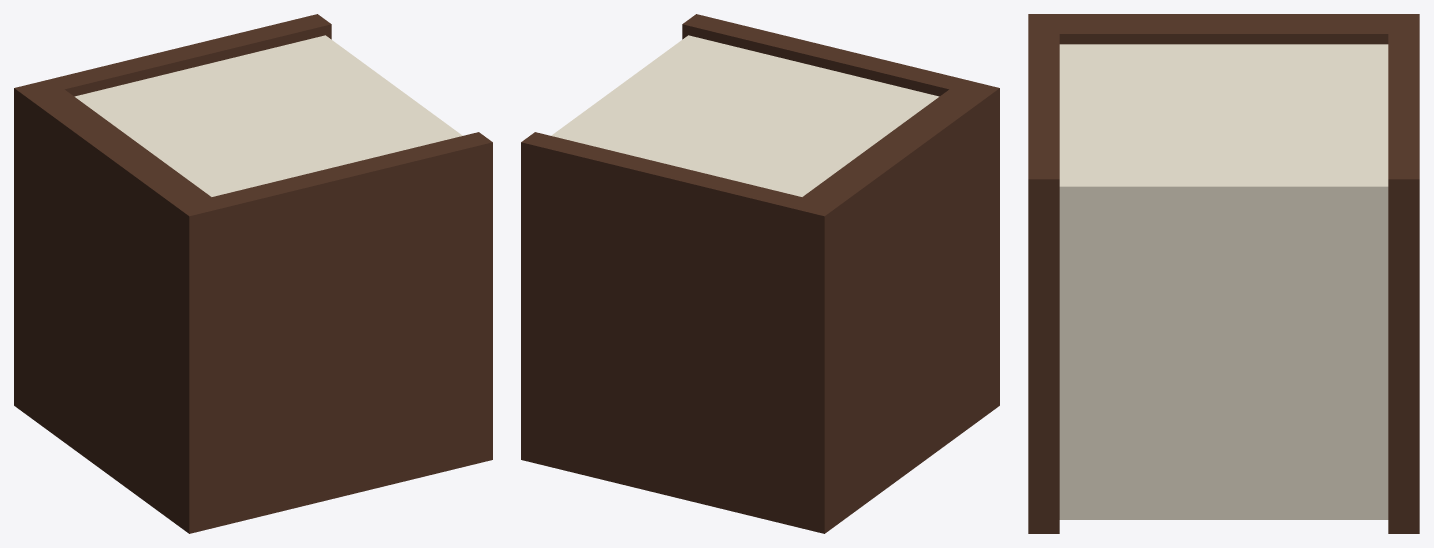
The model's file is book-7.glb.
3 views of the same model, side by side, from view 1: azimuth 30°, elevation 25°; view 2: azimuth 150°, elevation 25°; view 3: azimuth 270°, elevation 25° (orthographic). The views are drawn at different scales.
Size of the model in its own units: 1 by 1 by 1.
